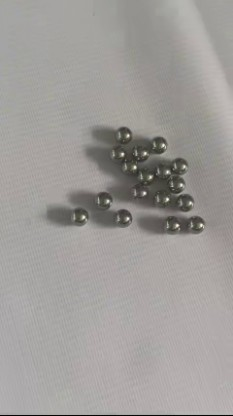ironball: (167, 153, 190, 176), (112, 205, 134, 229), (90, 189, 113, 210), (68, 205, 89, 227), (113, 123, 133, 146), (128, 181, 149, 202), (161, 213, 181, 235), (134, 166, 156, 185), (175, 189, 193, 211), (153, 187, 173, 206), (149, 134, 167, 155), (186, 213, 204, 234), (119, 157, 138, 175), (129, 146, 150, 161), (108, 145, 126, 161), (167, 177, 183, 195), (153, 164, 169, 180)
